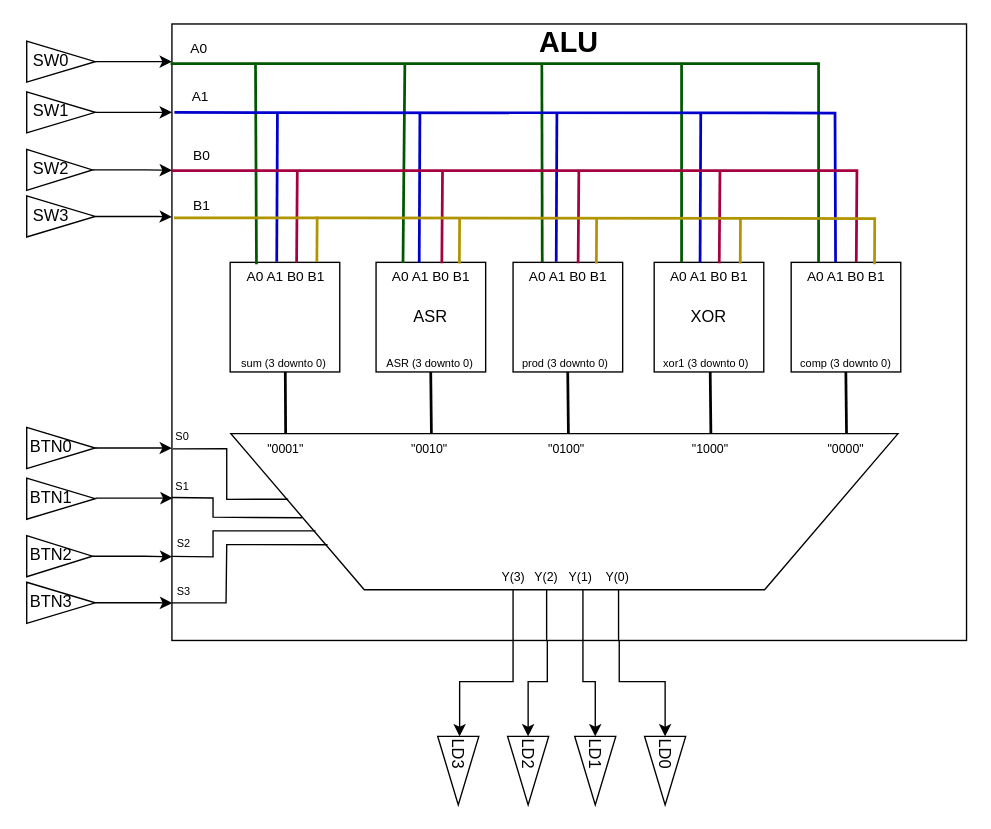
Some shapes in this 991 by 829 pixel diagram are drawn without their labels. The shapes that lost their labels are listed below. From the top down, each one's box as (x1, y1, x2, y2) in pixels, then its label:
(229, 261, 340, 372): Adder
(512, 261, 623, 372): Multiplier
(790, 261, 901, 372): Comparator
